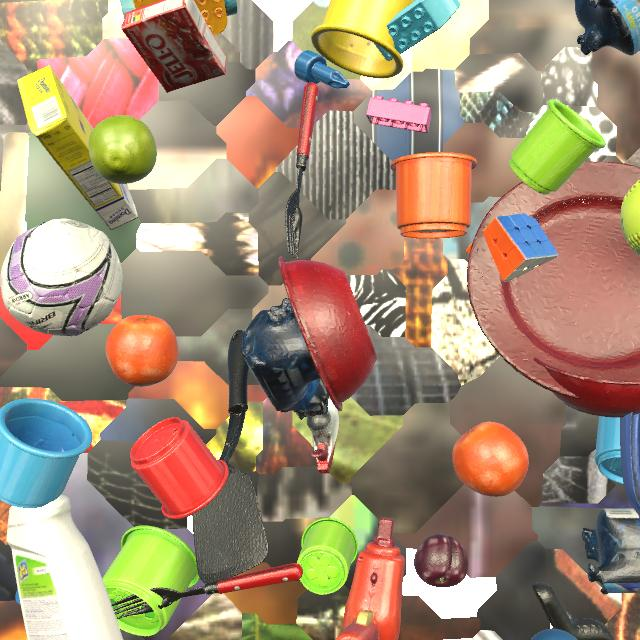ycb_004_sugar_box: (17, 65, 138, 230)
ycb_009_gelatin_box: (121, 0, 227, 93)
ycb_016_pear: (88, 115, 157, 184)
ycb_017_orange: (452, 422, 529, 497), (106, 315, 179, 387)
ycb_018_plum: (414, 533, 468, 587)
